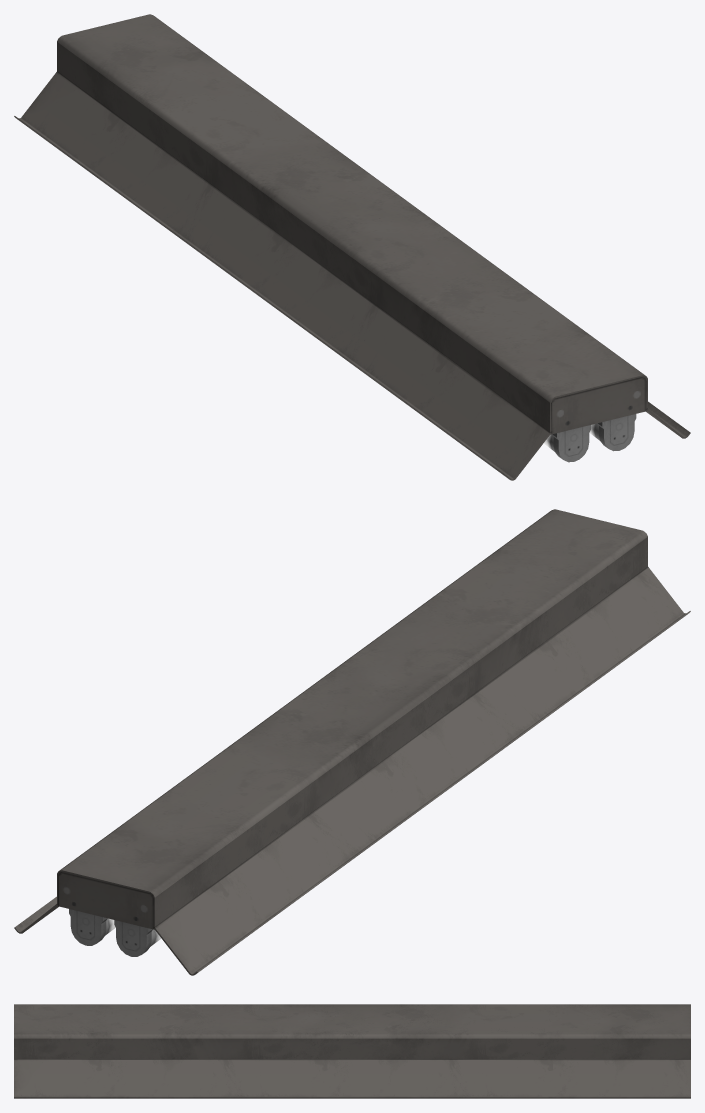
File: Lamp_02.fbx
3 views of the same model, one above another, from view 1: azimuth 30°, elevation 25°; view 2: azimuth 150°, elevation 25°; view 3: azimuth 270°, elevation 25° (orthographic). The views are drawn at different scales.
Visible parts, largest first — view 1: Lamp_03; view 2: Lamp_03; view 3: Lamp_03.
Boxes of the visible parts, left/top/right/bottom form: Lamp_03: left=14, top=14, right=690, bottom=480; Lamp_03: left=14, top=509, right=690, bottom=975; Lamp_03: left=14, top=1004, right=690, bottom=1098.
Bounding box in the file's own units: 38.98 × 14.97 × 181.
1 material, 1 textured.
